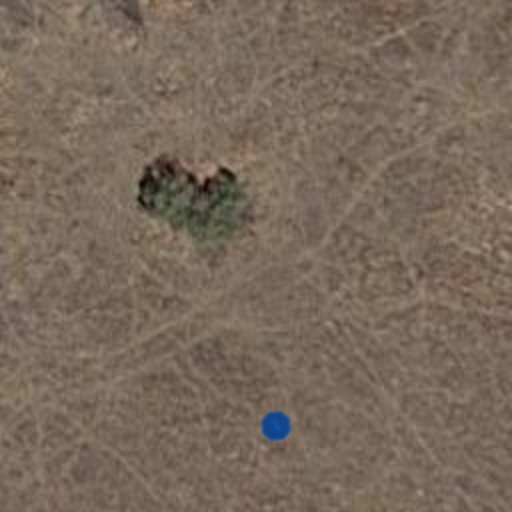octagon: (254, 404, 298, 448)
